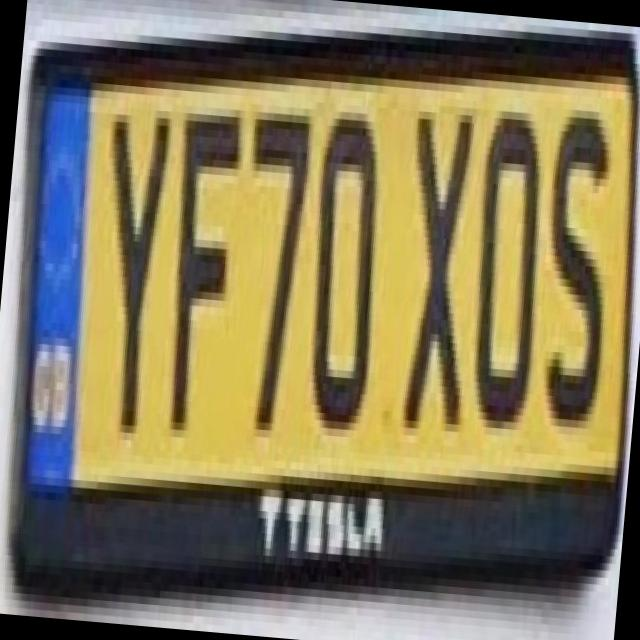0: (448, 78, 558, 430), (286, 94, 394, 431)
7: (222, 89, 325, 432)
F: (147, 90, 253, 433)
S: (520, 92, 632, 438)
X: (380, 80, 490, 432)
Y: (79, 84, 179, 442)
